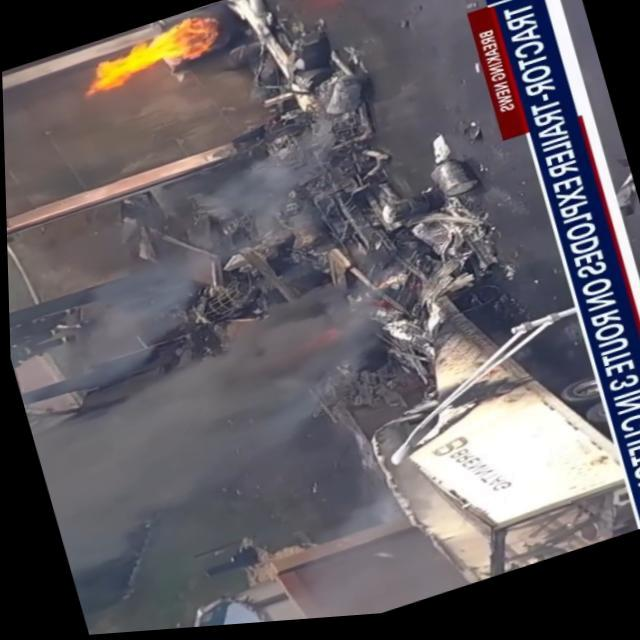fire: (60, 8, 228, 110)
